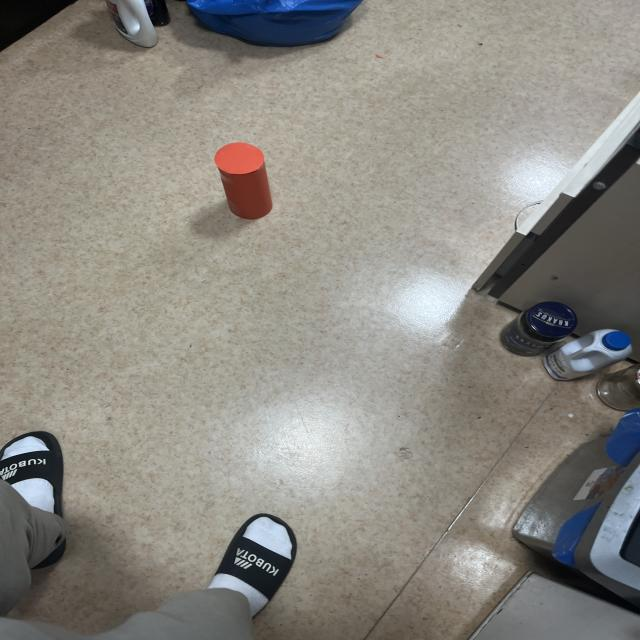przeszkoda: (214, 143, 272, 219)
